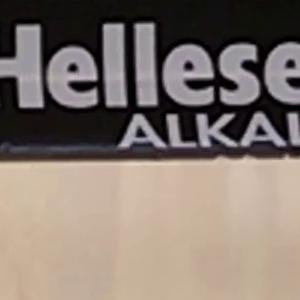ALK: (108, 104, 232, 159)
